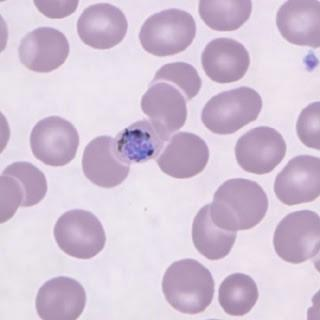Infected: (113, 120, 167, 166)
Uninfected: (211, 179, 267, 231), (203, 86, 262, 135), (161, 259, 213, 314), (138, 8, 196, 56), (52, 209, 104, 259), (81, 135, 130, 188), (29, 115, 79, 166), (141, 82, 189, 135), (272, 210, 319, 264), (192, 205, 236, 260), (234, 126, 284, 174), (76, 2, 128, 48), (157, 132, 207, 179), (273, 155, 320, 205), (200, 37, 250, 83), (19, 27, 69, 72), (35, 277, 85, 319), (4, 161, 47, 209), (277, 0, 320, 46), (150, 61, 200, 99), (217, 273, 257, 315)
